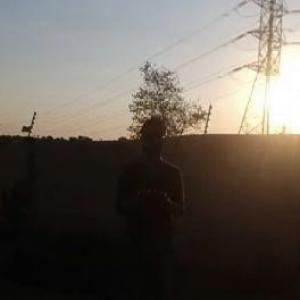follow: (110, 114, 190, 299)
